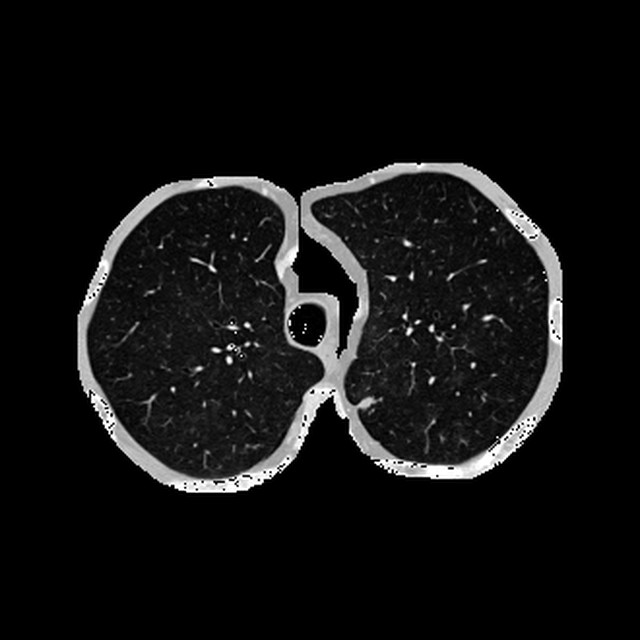PN: (357, 396, 372, 411)
